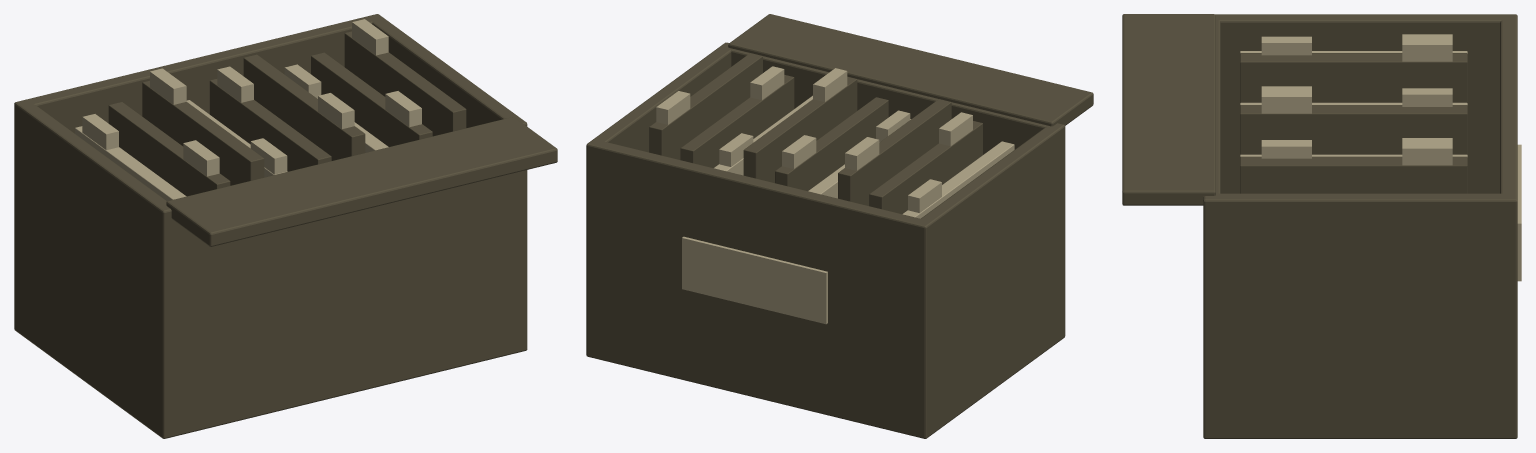
Rendered from archive_box.glb.
The picture shows the model from 3 angles, left to right: view 1: azimuth 30°, elevation 25°; view 2: azimuth 150°, elevation 25°; view 3: azimuth 270°, elevation 25°; orthographic projection. The views are drawn at different scales.
Visible parts, largest first — view 1: archive_box; view 2: archive_box; view 3: archive_box.
Boxes of the visible parts, x1=… form: archive_box: x1=14, y1=14, x2=557, y2=438; archive_box: x1=586, y1=14, x2=1093, y2=438; archive_box: x1=1122, y1=14, x2=1521, y2=438.
Size of the model in its own units: 0.66 by 0.4425 by 0.597.
